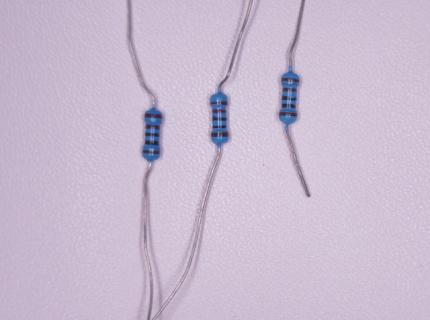Brown band: (282, 88, 297, 92), (146, 125, 160, 129)
